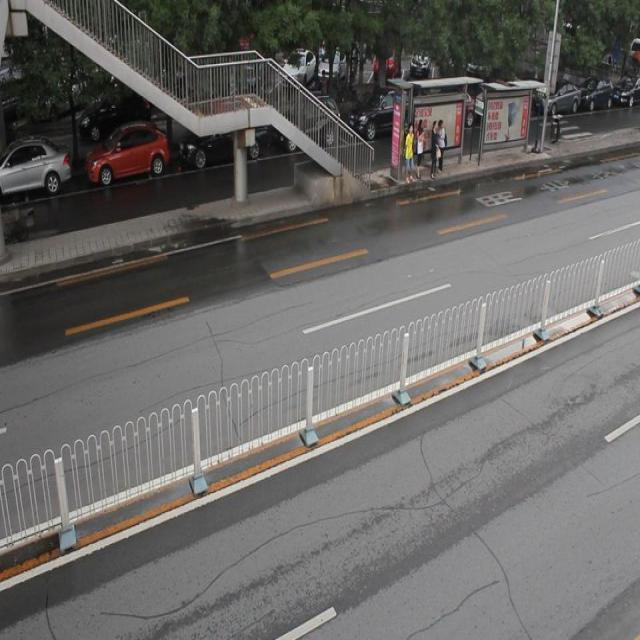car: (180, 100, 266, 164), (84, 122, 169, 186), (1, 137, 69, 195), (349, 83, 413, 140), (276, 94, 339, 150)
